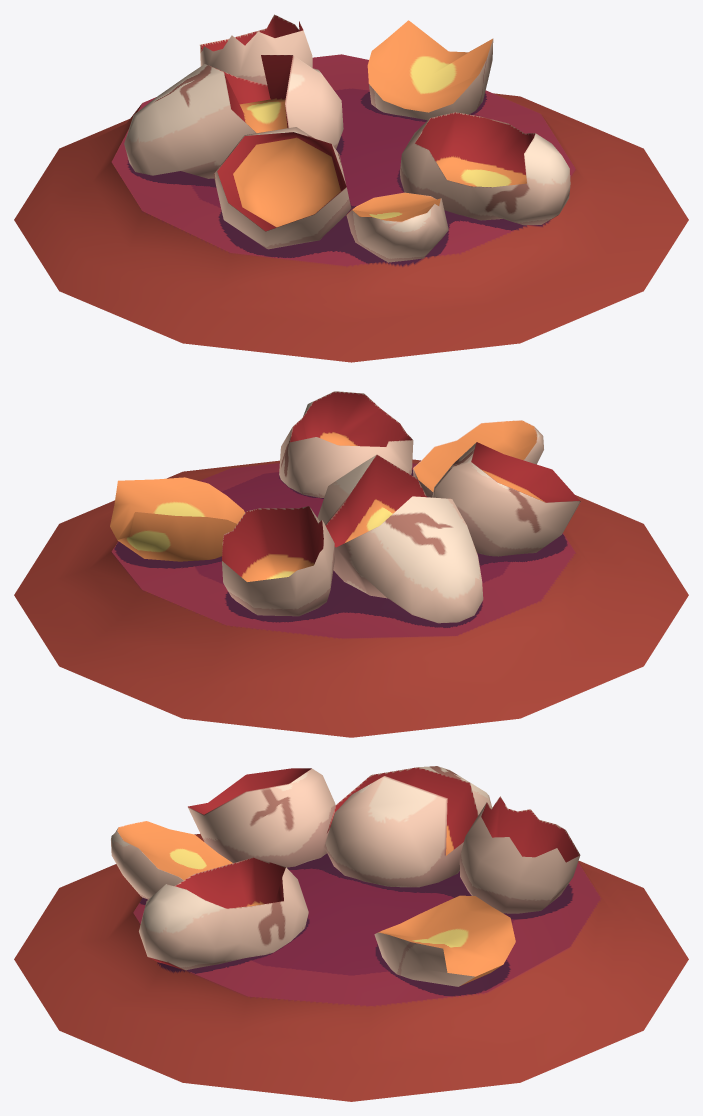
The model's file is DinoNestDestroyedFinal.fbx.
The picture shows the model from 3 angles, top to bottom: view 1: azimuth 30°, elevation 25°; view 2: azimuth 150°, elevation 25°; view 3: azimuth 270°, elevation 25°; orthographic projection.
Visible parts, largest first — view 1: DinoNestDestroyed; view 2: DinoNestDestroyed; view 3: DinoNestDestroyed.
Part boxes in pixels (x1=…): DinoNestDestroyed: x1=14, y1=14, x2=688, y2=362; DinoNestDestroyed: x1=14, y1=391, x2=688, y2=737; DinoNestDestroyed: x1=14, y1=766, x2=688, y2=1101.
Bounding box in the file's own units: 7.86 × 2.1 × 7.86.
